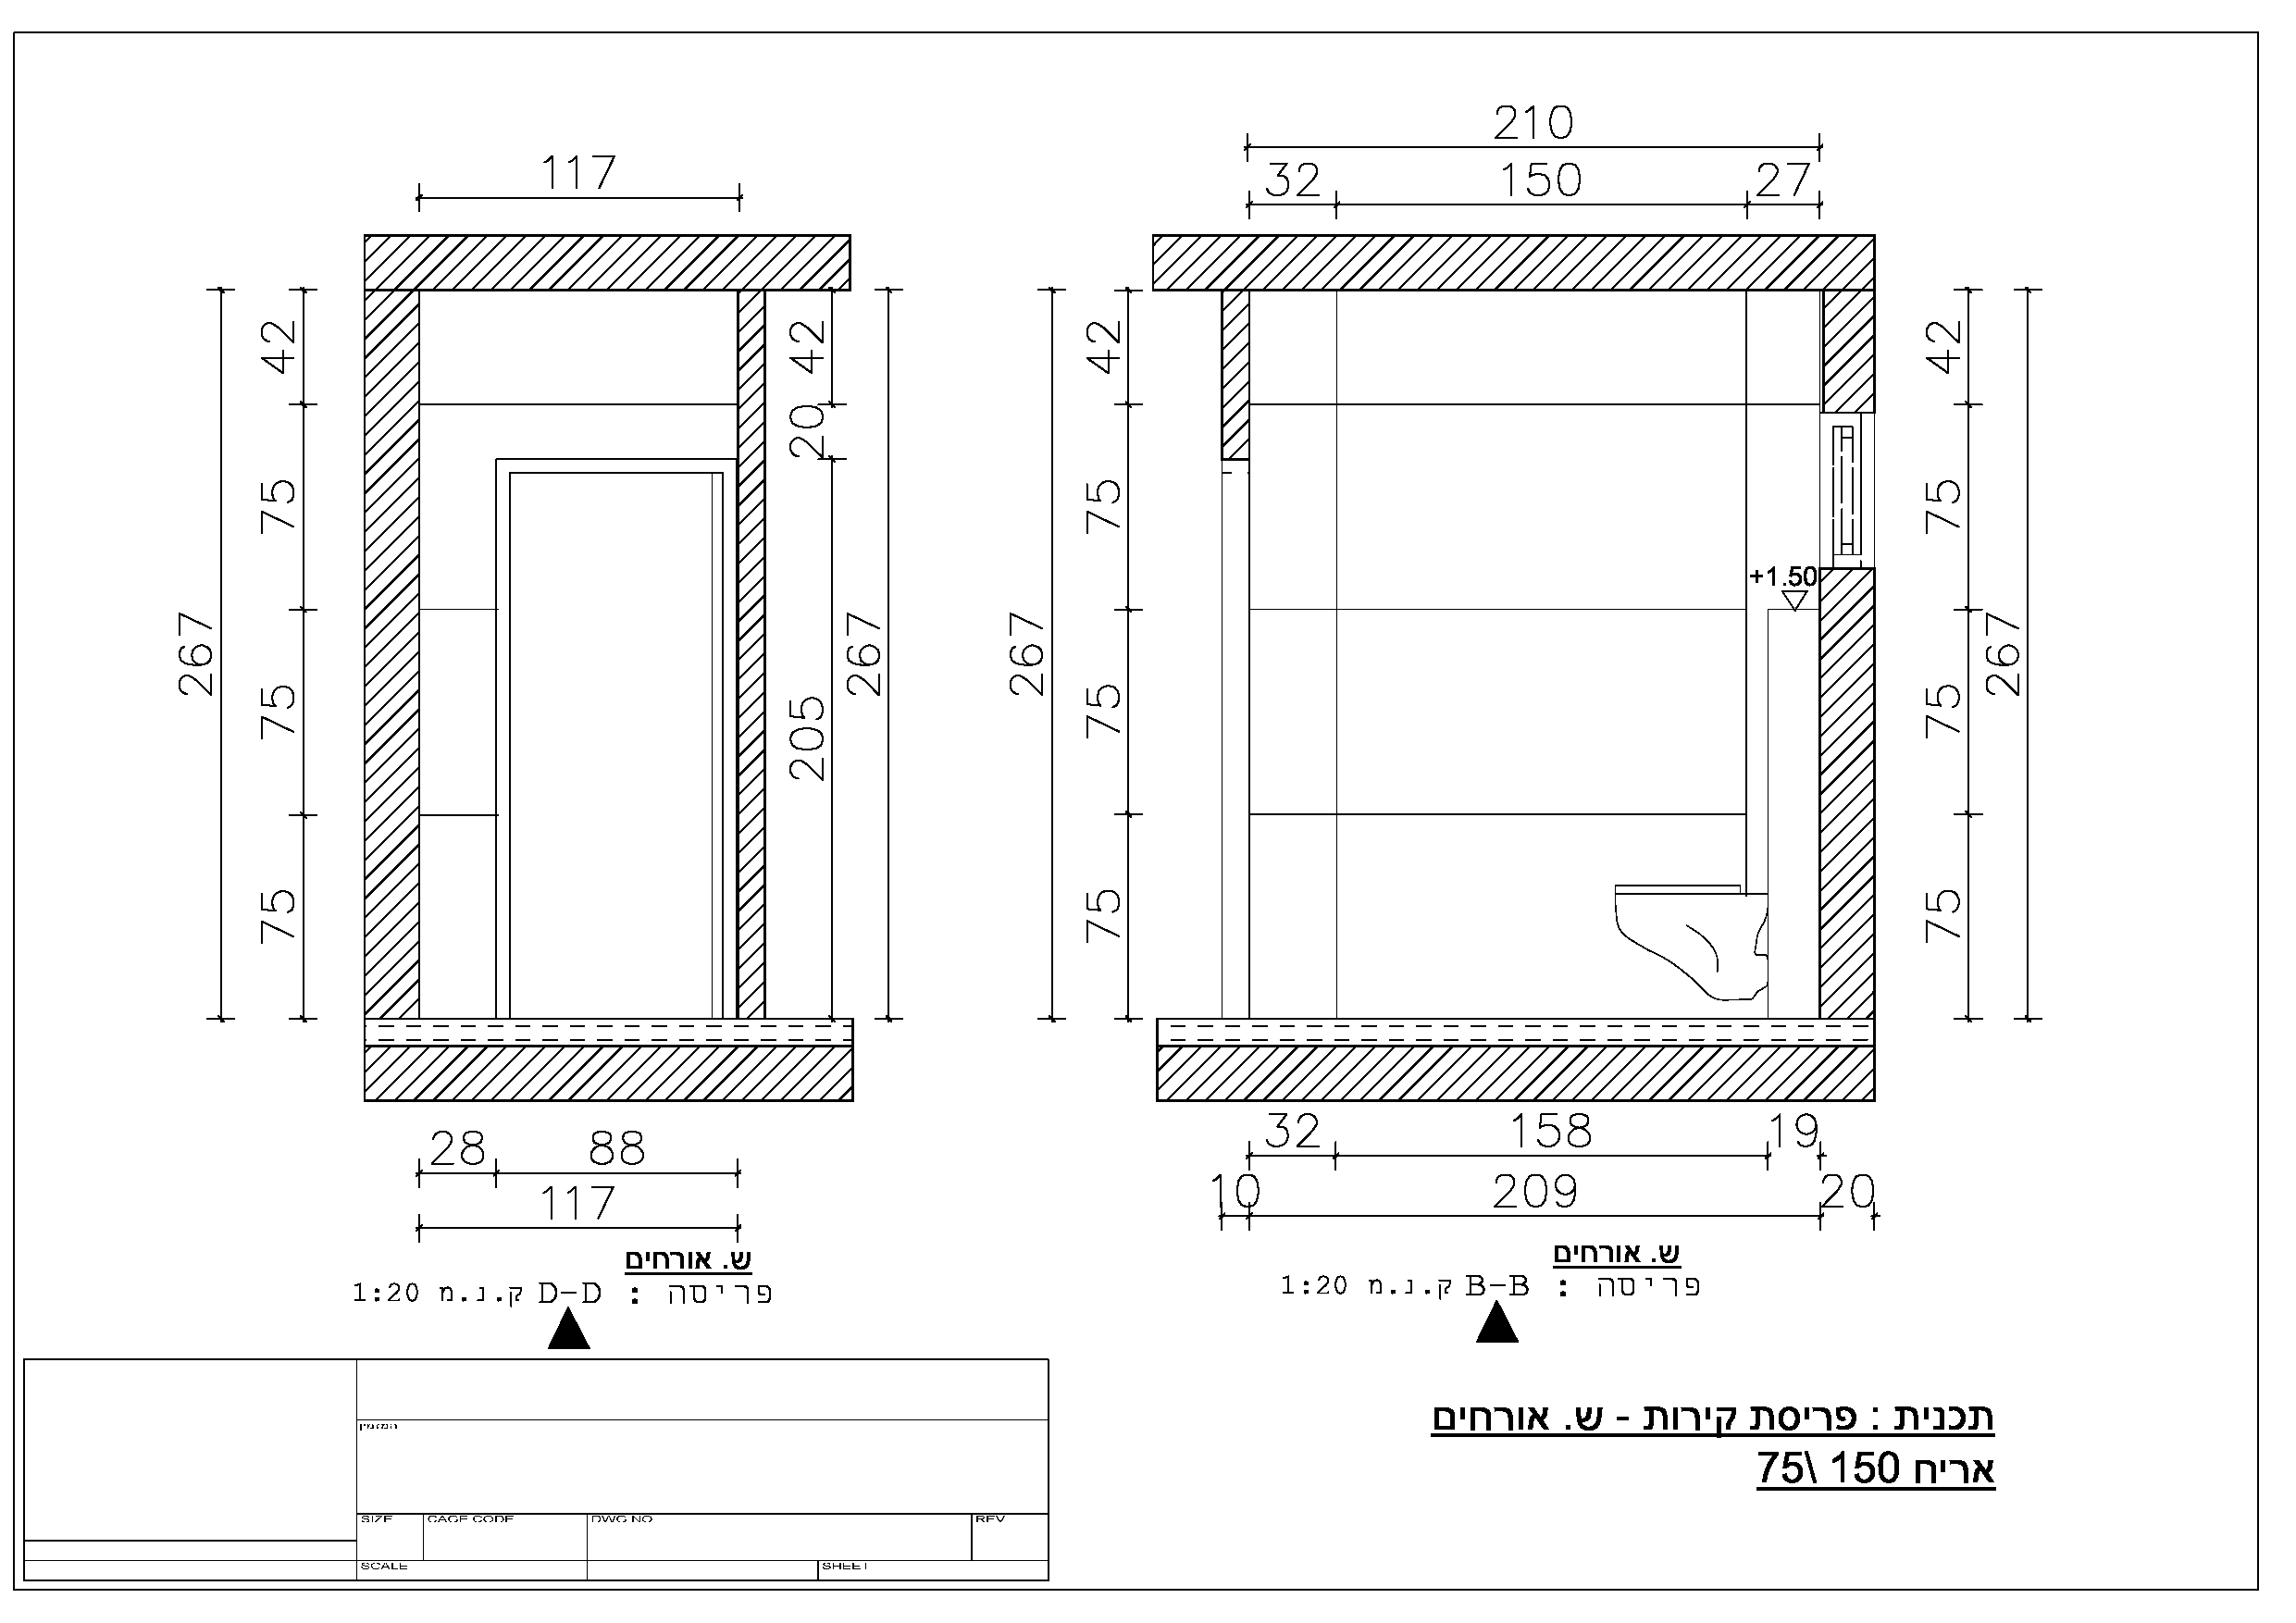wall: (1158, 1043, 1871, 1100), (367, 239, 418, 1022), (1152, 234, 1880, 288), (1818, 571, 1878, 1021), (358, 1045, 850, 1100), (371, 237, 854, 281), (736, 293, 762, 1017)
